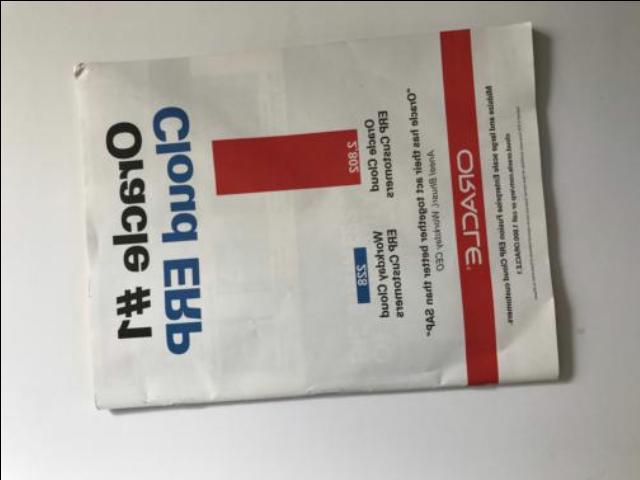cardboard paper: (72, 24, 555, 413)
